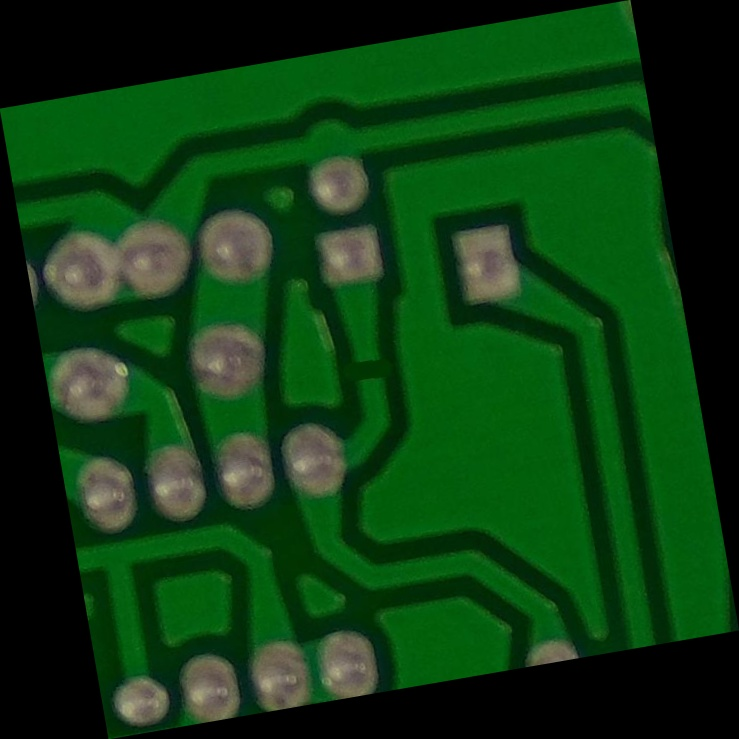open_circuit: (342, 335, 398, 404)
